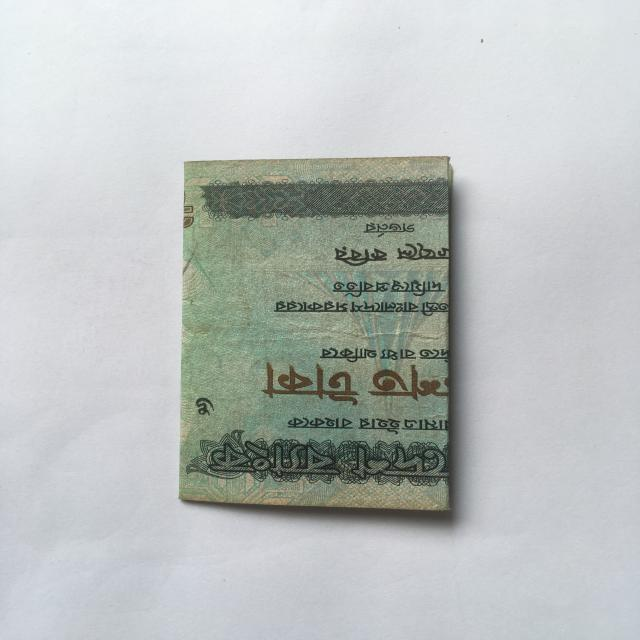Taka: (173, 156, 457, 515)
